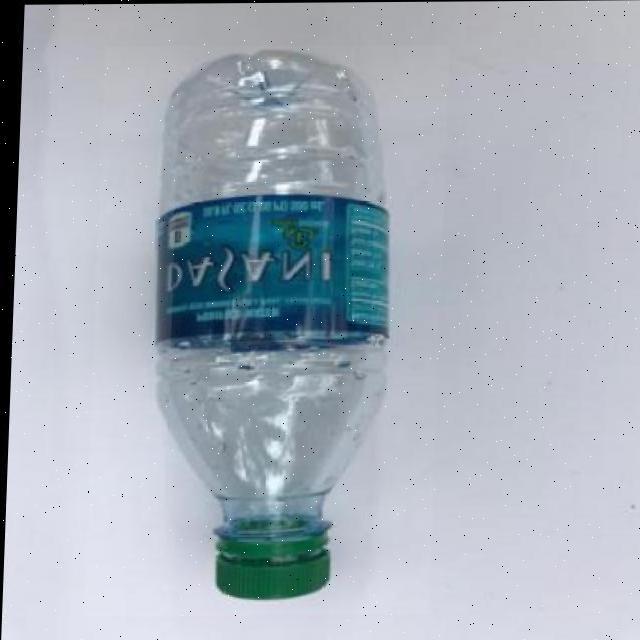plastic: (83, 44, 444, 615)
